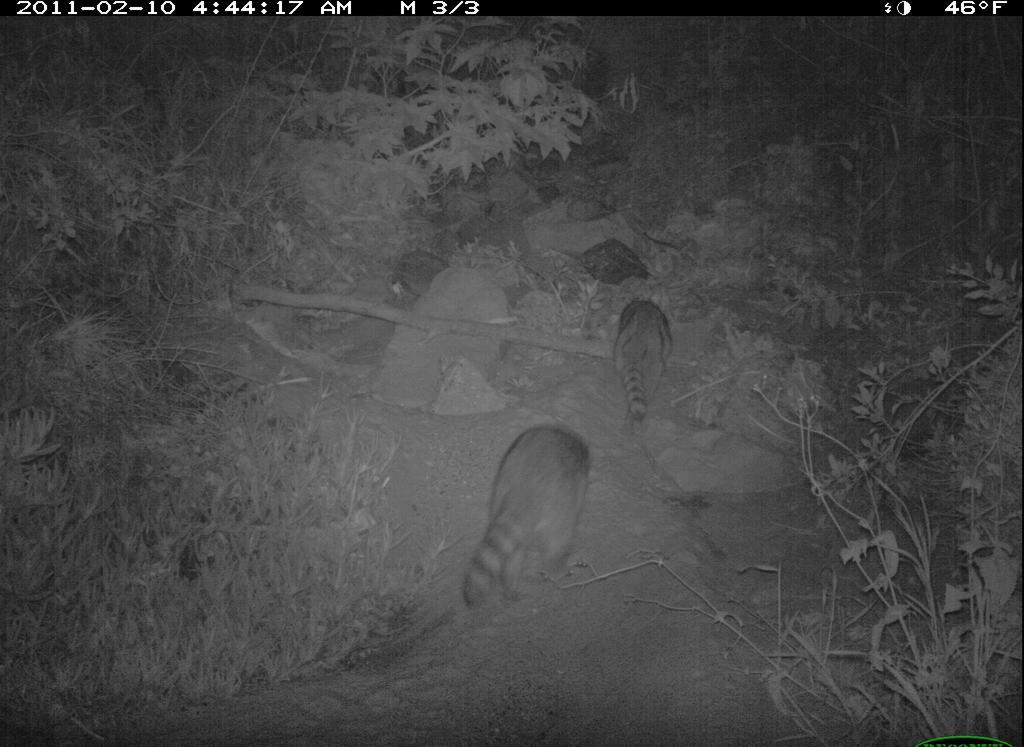raccoon: (455, 422, 601, 615), (606, 295, 679, 445)
